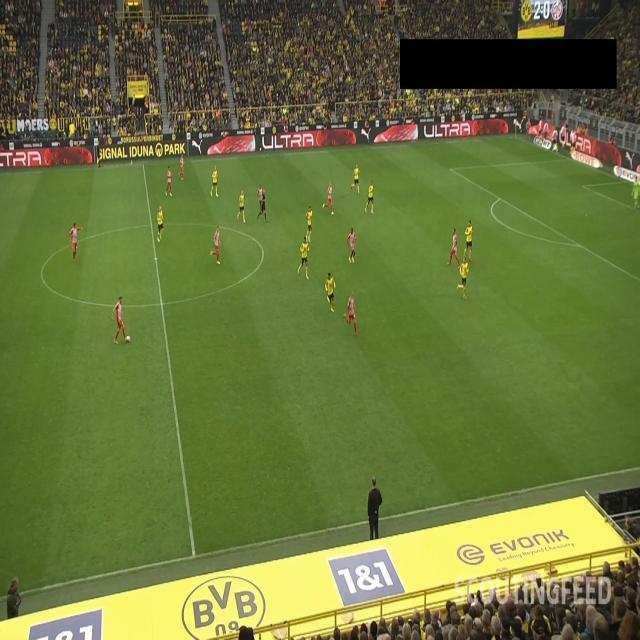ball: (125, 334, 131, 344)
